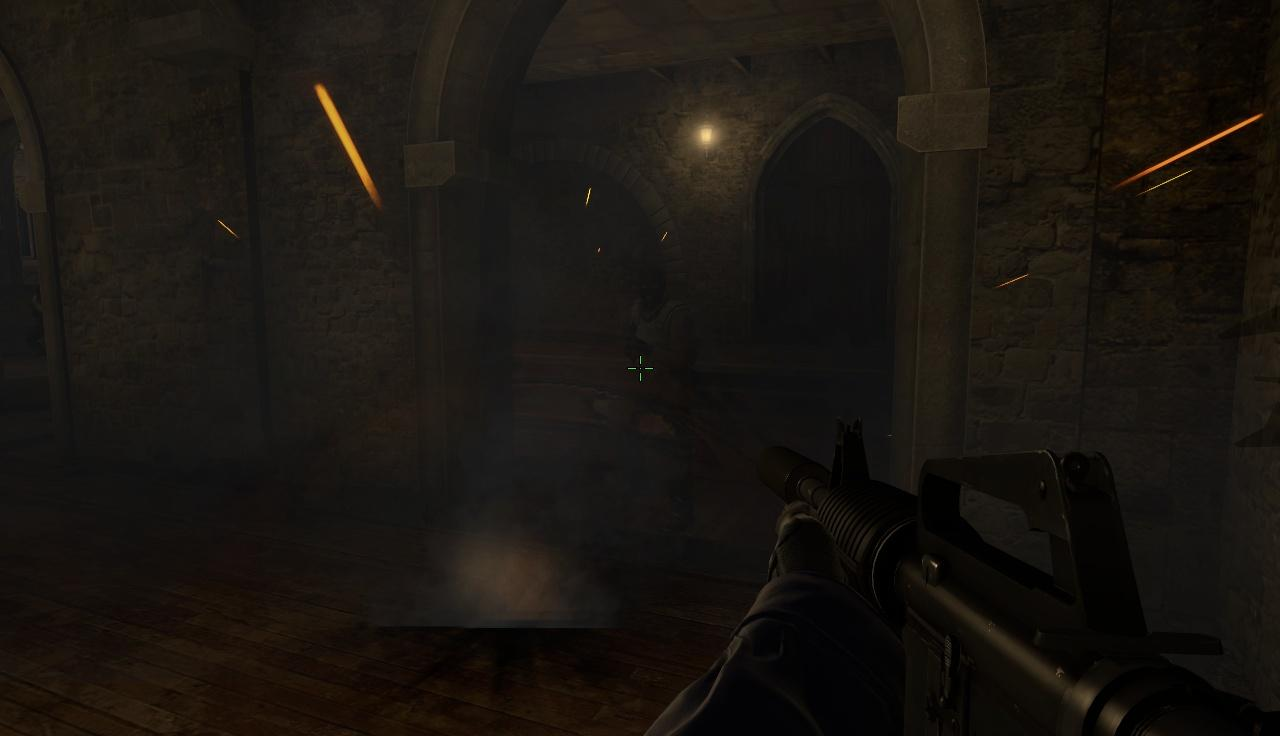rifle: (752, 409, 1280, 731)
